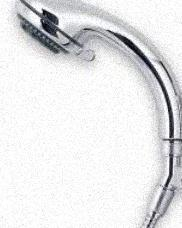Ducha: (12, 0, 182, 228)
